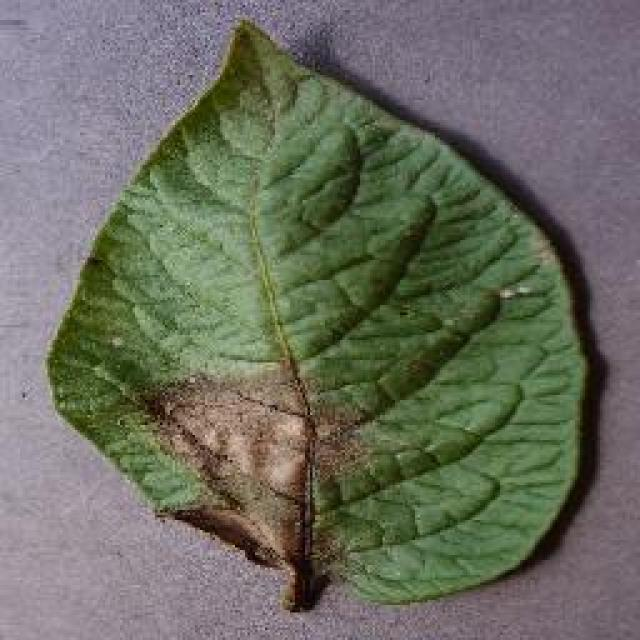Potato___Late_blight: (33, 2, 605, 632)
